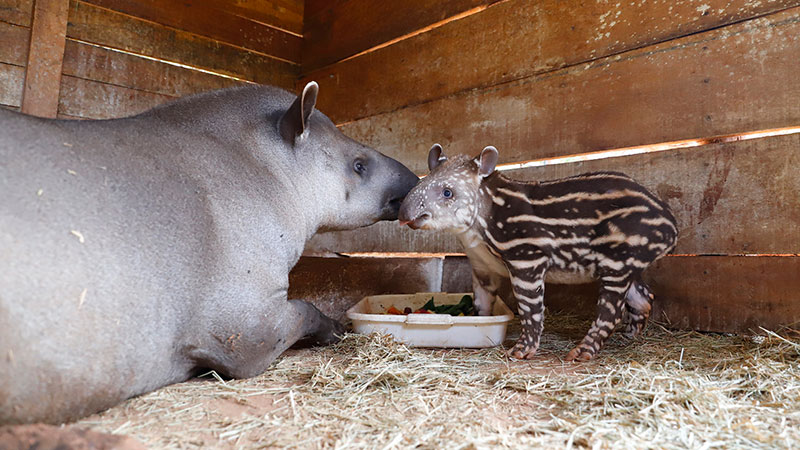Anta: (3, 76, 420, 428), (400, 137, 689, 366)
